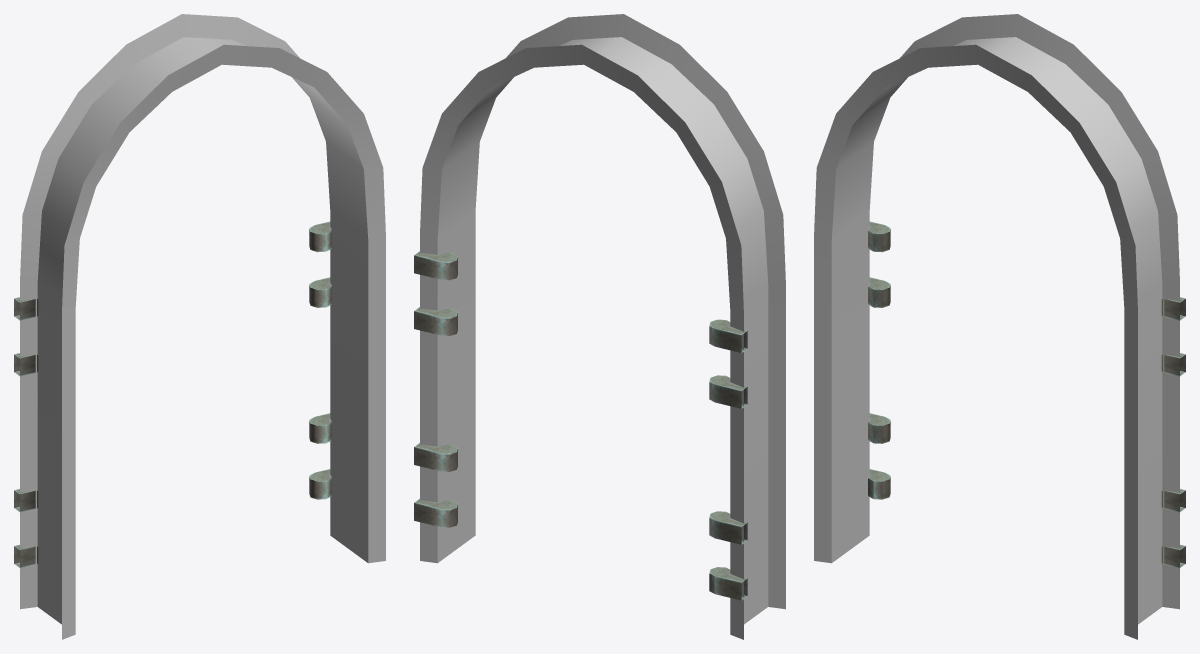
File: FP_Metal_Door_01.FBX
3 views of the same model, side by side, from view 1: azimuth 30°, elevation 25°; view 2: azimuth 150°, elevation 25°; view 3: azimuth 330°, elevation 25° (orthographic).
Parts seen in each view (by area): view 1: FP_Metal_Door_01; view 2: FP_Metal_Door_01; view 3: FP_Metal_Door_01.
Boxes of the visible parts, x1,y1,x2,y2 form: FP_Metal_Door_01: (14, 14, 385, 639); FP_Metal_Door_01: (414, 14, 785, 639); FP_Metal_Door_01: (814, 14, 1185, 639).
Bounding box in the file's own units: 311 × 75.81 × 505.
